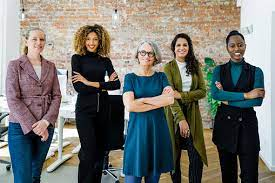person: (77, 26, 105, 53), (225, 29, 247, 61), (24, 27, 47, 54), (136, 40, 159, 67), (171, 32, 193, 59)
